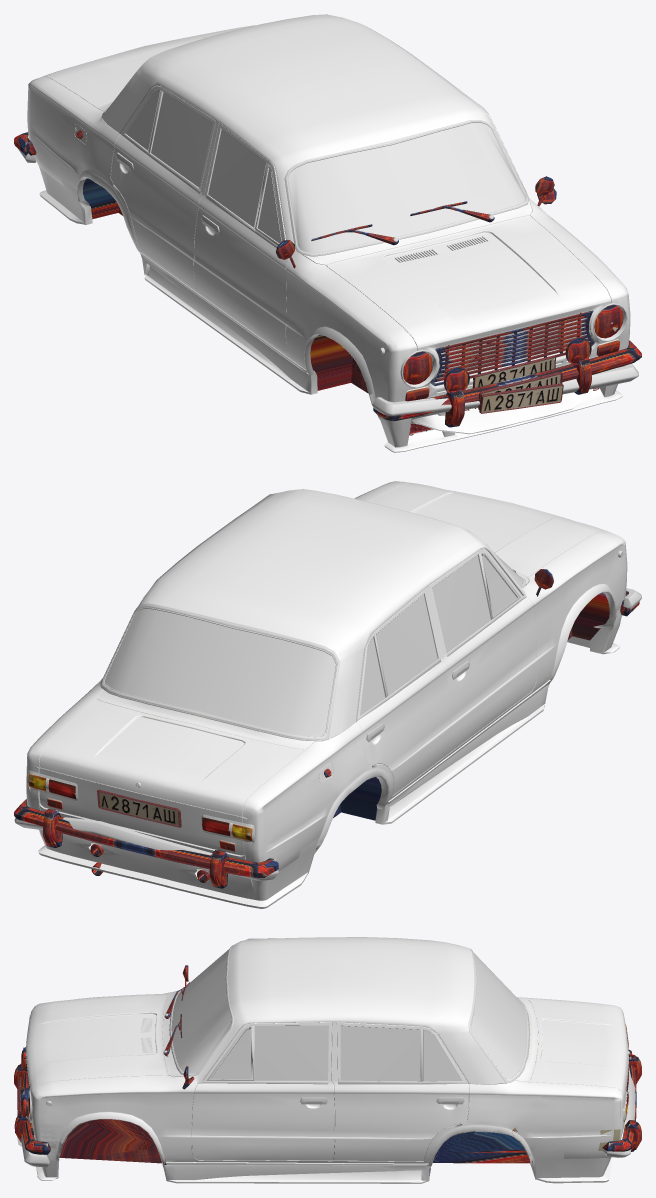
Rendered from Kopeyka.fbx.
3 views of the same model, one above another, from view 1: azimuth 30°, elevation 25°; view 2: azimuth 150°, elevation 25°; view 3: azimuth 270°, elevation 25° (orthographic). The views are drawn at different scales.
Parts seen in each view (by area): view 1: kit03_body, kit02_body, window, objects, kit02_objects, chrome, kit03_objects, window_borders, kit01_objects, bumpers, kit01_body; view 2: kit03_body, kit02_body, window, kit02_objects, chrome, kit01_objects, window_borders, kit03_objects, bumpers, objects; view 3: kit03_body, window, kit03_objects, kit01_body, chrome, kit02_body, kit01_objects, window_borders, bumpers, objects, kit02_objects, body.
Part boxes in pixels (x1,y1,x2,y2): kit03_body: (32, 14, 630, 452); kit02_body: (27, 15, 601, 434); window: (126, 89, 525, 253); objects: (76, 130, 623, 427); kit02_objects: (14, 132, 639, 421); chrome: (103, 58, 627, 388); kit03_objects: (90, 176, 619, 435); window_borders: (102, 14, 619, 398); kit01_objects: (22, 132, 641, 420); bumpers: (17, 136, 638, 416); kit01_body: (75, 85, 598, 419); kit03_body: (28, 481, 627, 908); kit02_body: (26, 493, 627, 875); window: (104, 553, 522, 736); kit02_objects: (15, 571, 639, 882); chrome: (30, 496, 620, 836); kit01_objects: (14, 571, 628, 888); window_borders: (28, 529, 526, 850); kit03_objects: (28, 570, 600, 881); bumpers: (14, 588, 641, 880); objects: (31, 569, 553, 881); kit03_body: (26, 937, 621, 1183); window: (171, 949, 526, 1081); kit03_objects: (30, 966, 628, 1175); kit01_body: (39, 1012, 617, 1165); chrome: (29, 946, 629, 1122); kit02_body: (17, 942, 628, 1167); kit01_objects: (14, 979, 641, 1154); window_borders: (32, 945, 626, 1134); bumpers: (21, 1047, 635, 1167); objects: (14, 965, 639, 1157); kit02_objects: (18, 1047, 636, 1150); body: (45, 998, 620, 1164).
Size of the model in its own units: 1.7 by 1.27 by 4.14.
